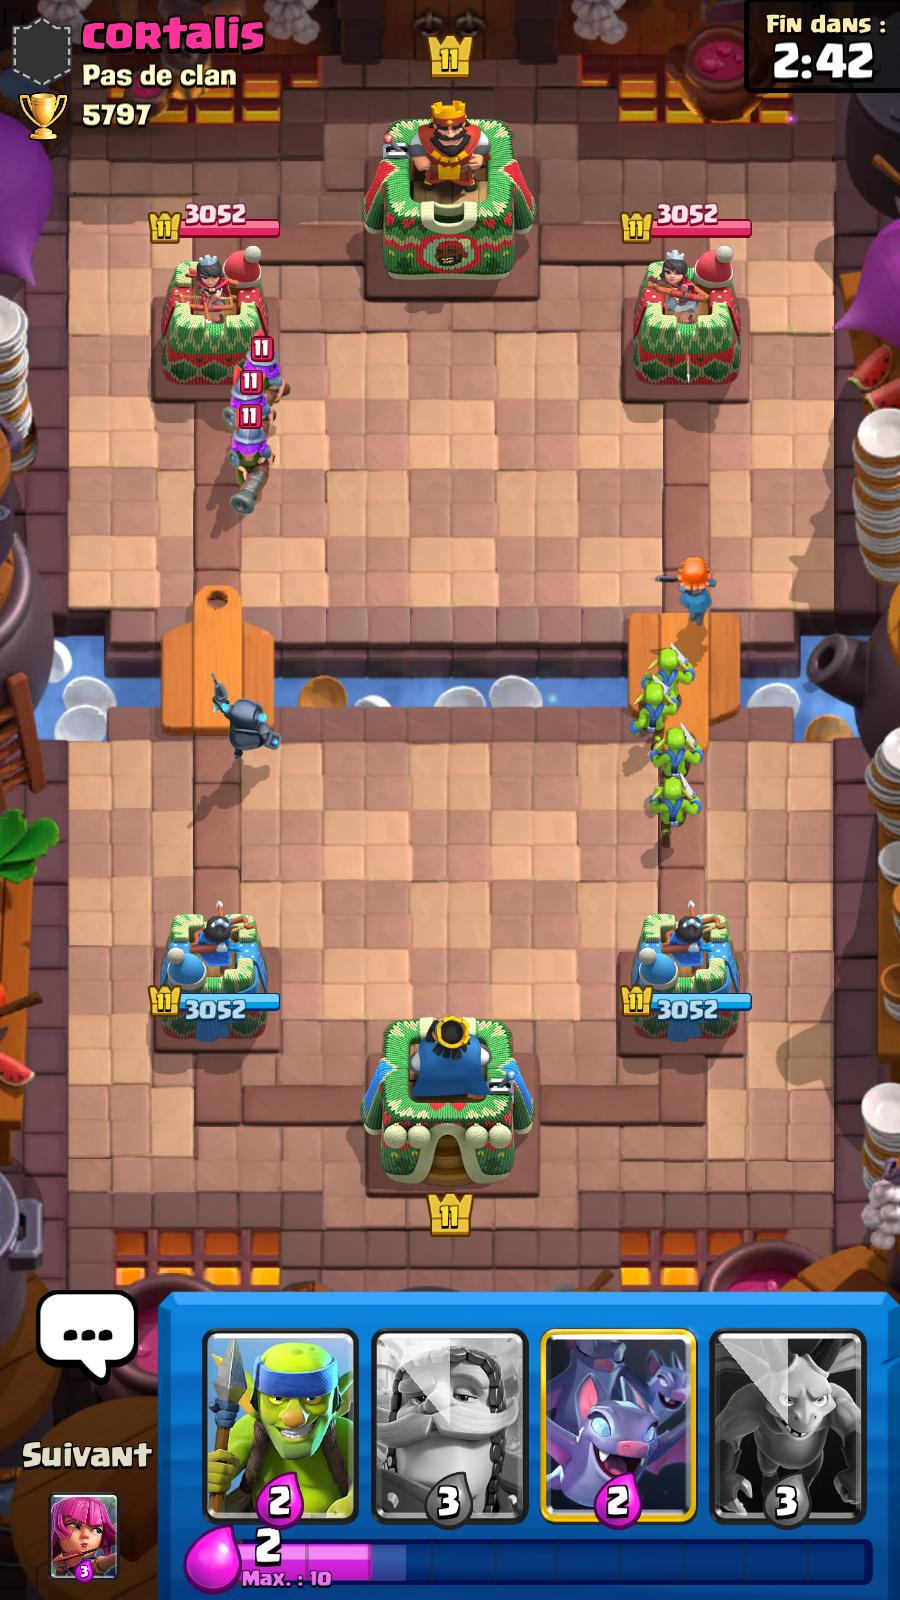gobelin: (633, 773, 711, 849), (634, 635, 703, 710), (646, 718, 708, 787), (630, 675, 679, 756)
mini_PEKKA: (208, 676, 292, 778)
mousquetaire: (218, 412, 288, 534), (222, 364, 285, 455), (243, 314, 284, 415)
valkyrie: (648, 544, 740, 642)
